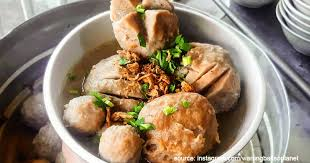bakso: (56, 20, 235, 155)
